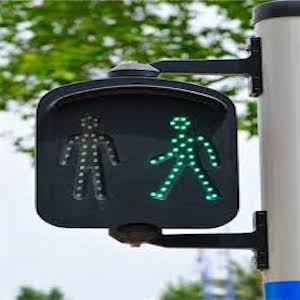green: (142, 113, 219, 202)
